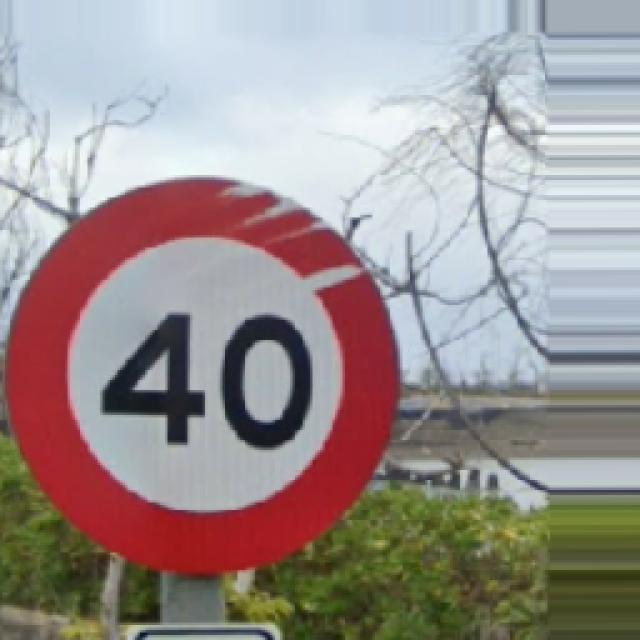Speed Limit -40-: (10, 178, 398, 575)
